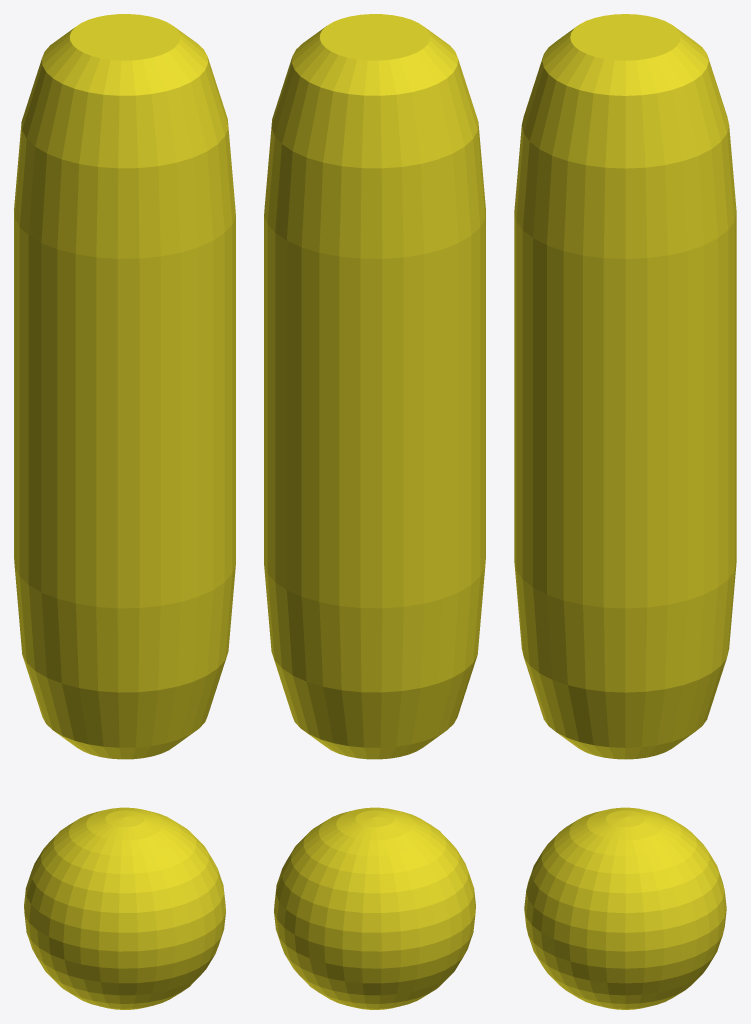
The model's file is exlamation.fbx.
3 renders of one model, left to right at view 1: azimuth 30°, elevation 25°; view 2: azimuth 150°, elevation 25°; view 3: azimuth 270°, elevation 25°, orthographic.
Visible parts, largest first — view 1: Cylinder, Sphere; view 2: Cylinder, Sphere; view 3: Cylinder, Sphere.
Part boxes in pixels (<box>): Cylinder: <box>14,14,235,759</box>; Sphere: <box>24,807,225,1009</box>; Cylinder: <box>264,14,485,759</box>; Sphere: <box>274,807,475,1009</box>; Cylinder: <box>514,14,736,759</box>; Sphere: <box>524,807,726,1009</box>.
Bounding box in the file's own units: 220 × 1049 × 220.
